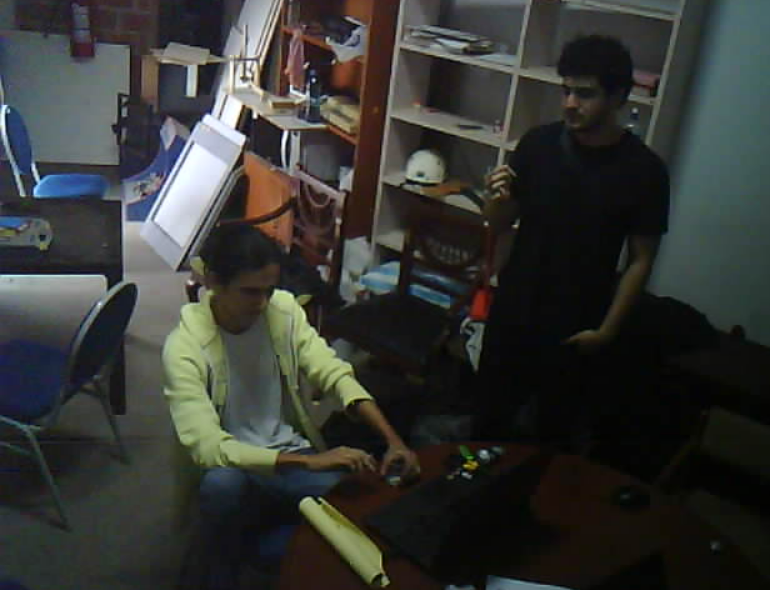person: (156, 211, 428, 590), (454, 25, 680, 446)
